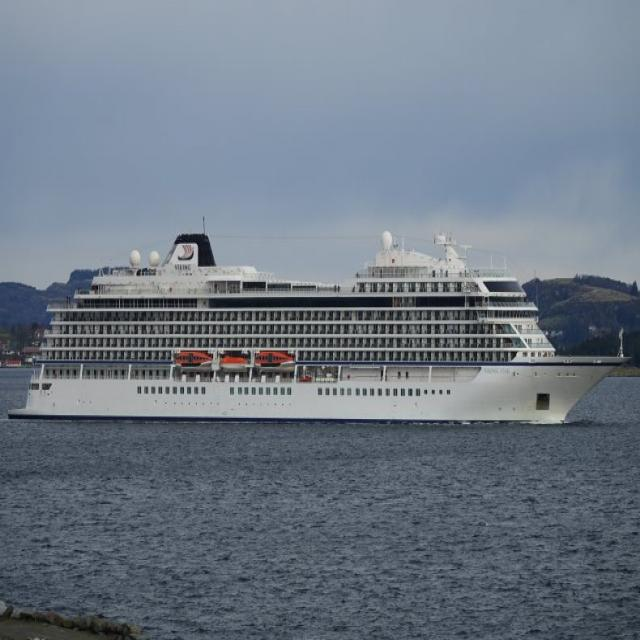cruises: (10, 207, 640, 443)
